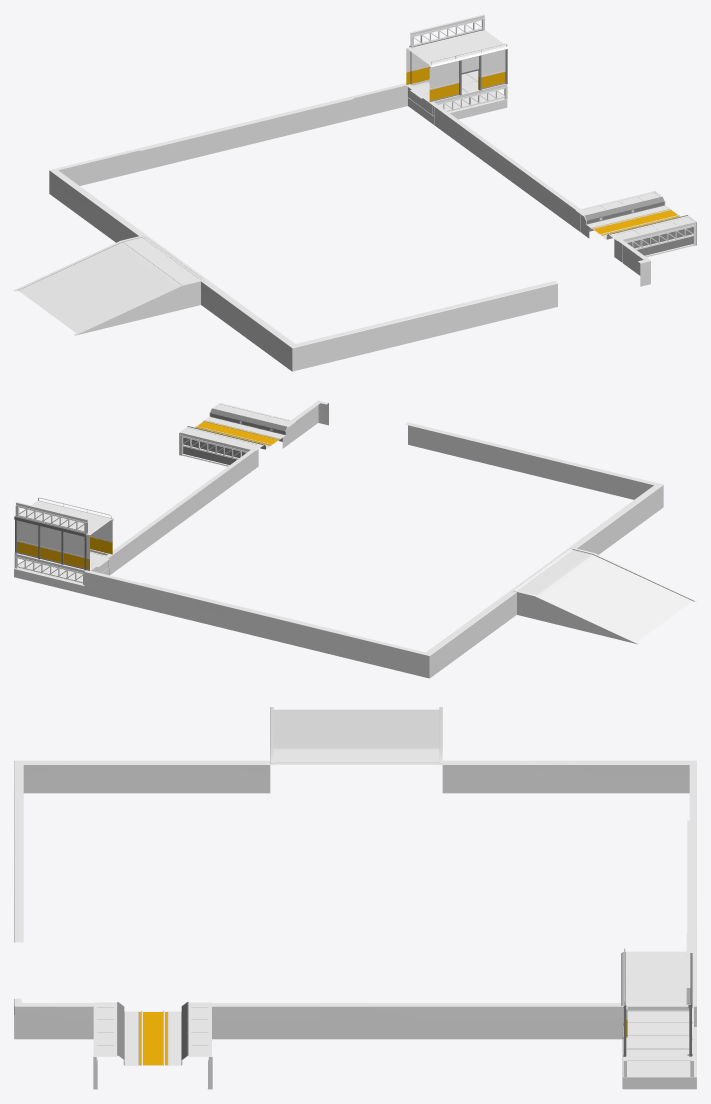
The picture shows the model from 3 angles, top to bottom: view 1: azimuth 30°, elevation 25°; view 2: azimuth 150°, elevation 25°; view 3: azimuth 270°, elevation 25°; orthographic projection. The views are drawn at different scales.
Visible parts, largest first — view 1: SM_H_Building_FutureTech_PrintArea_ExterWall_02D; view 2: SM_H_Building_FutureTech_PrintArea_ExterWall_02D; view 3: SM_H_Building_FutureTech_PrintArea_ExterWall_02D.
Part boxes in pixels (box(x1,y1,x2,y2)): SM_H_Building_FutureTech_PrintArea_ExterWall_02D: box(14, 14, 696, 371); SM_H_Building_FutureTech_PrintArea_ExterWall_02D: box(14, 400, 696, 678); SM_H_Building_FutureTech_PrintArea_ExterWall_02D: box(14, 707, 696, 1089).
Bounding box in the file's own units: 2184 × 2895 × 374.
